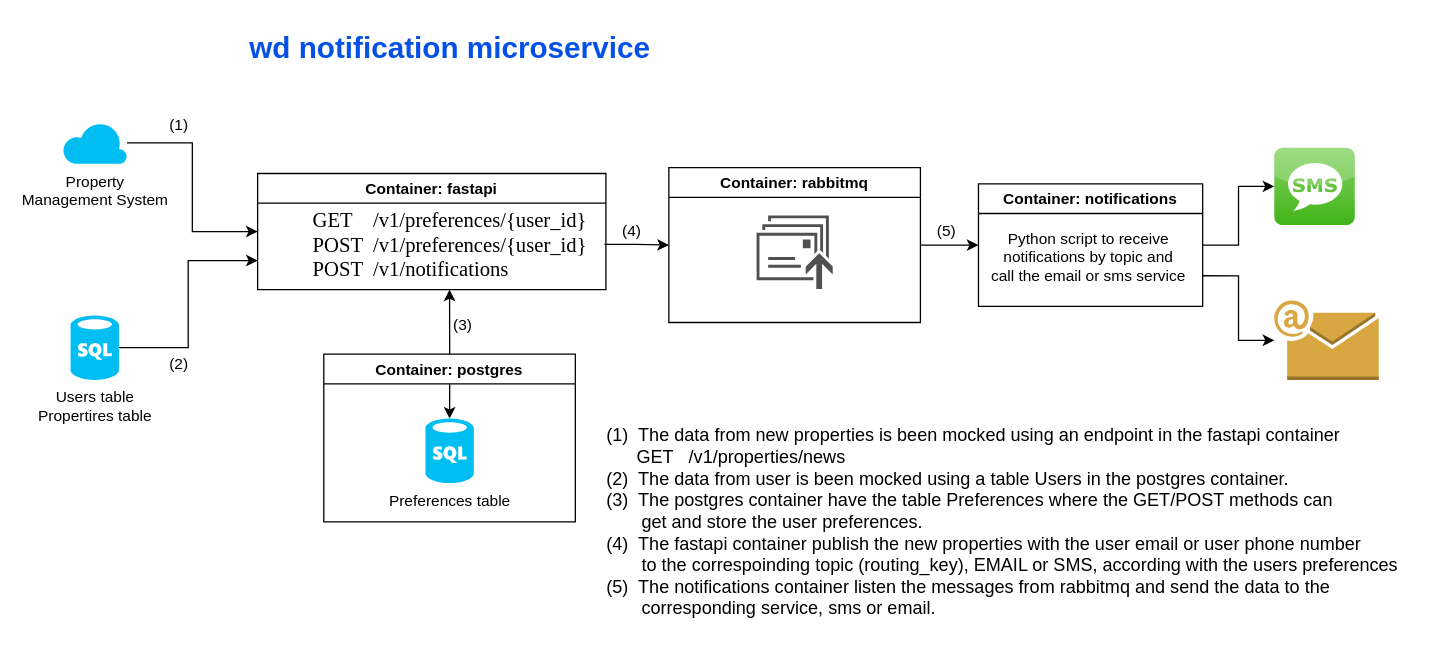
Image size: 1453x646. Some labels were removed from this diagram. The shapes that lost their labels are listed below. From the top down, each one's centre as x and y in pixels, then its label:
At [1314,185]: "sms service".
At [794,251]: "RabbitMQ by Topics".
At [1326,339]: "email service".
